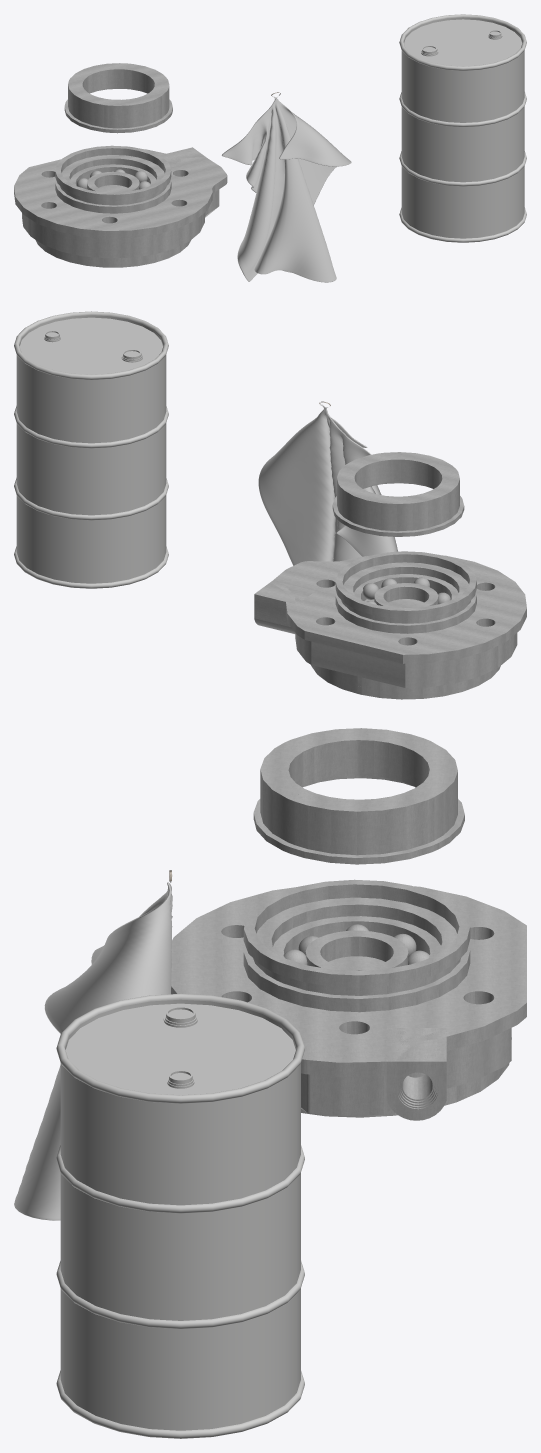
3 views of the same model, one above another, from view 1: azimuth 30°, elevation 25°; view 2: azimuth 150°, elevation 25°; view 3: azimuth 270°, elevation 25° (orthographic). The views are drawn at different scales.
Visible parts, largest first — view 1: mek, 1, lap mfb, 1.001; view 2: mek, 1, lap mfb, 1.001; view 3: mek, 1, 1.001, lap mfb.
Part boxes in pixels (box(x1,y1,x2,y2)): mek: box(399, 14, 526, 242); 1: box(14, 145, 227, 267); lap mfb: box(221, 92, 351, 282); 1.001: box(64, 63, 172, 133); mek: box(14, 311, 168, 588); 1: box(254, 551, 526, 699); lap mfb: box(258, 401, 397, 565); 1.001: box(332, 452, 464, 536); mek: box(56, 993, 304, 1438); 1: box(171, 879, 526, 1120); 1.001: box(253, 728, 464, 864); lap mfb: box(14, 870, 172, 1220).
Size of the model in its own units: 832 by 314 by 425.
5 materials, 3 textured.
